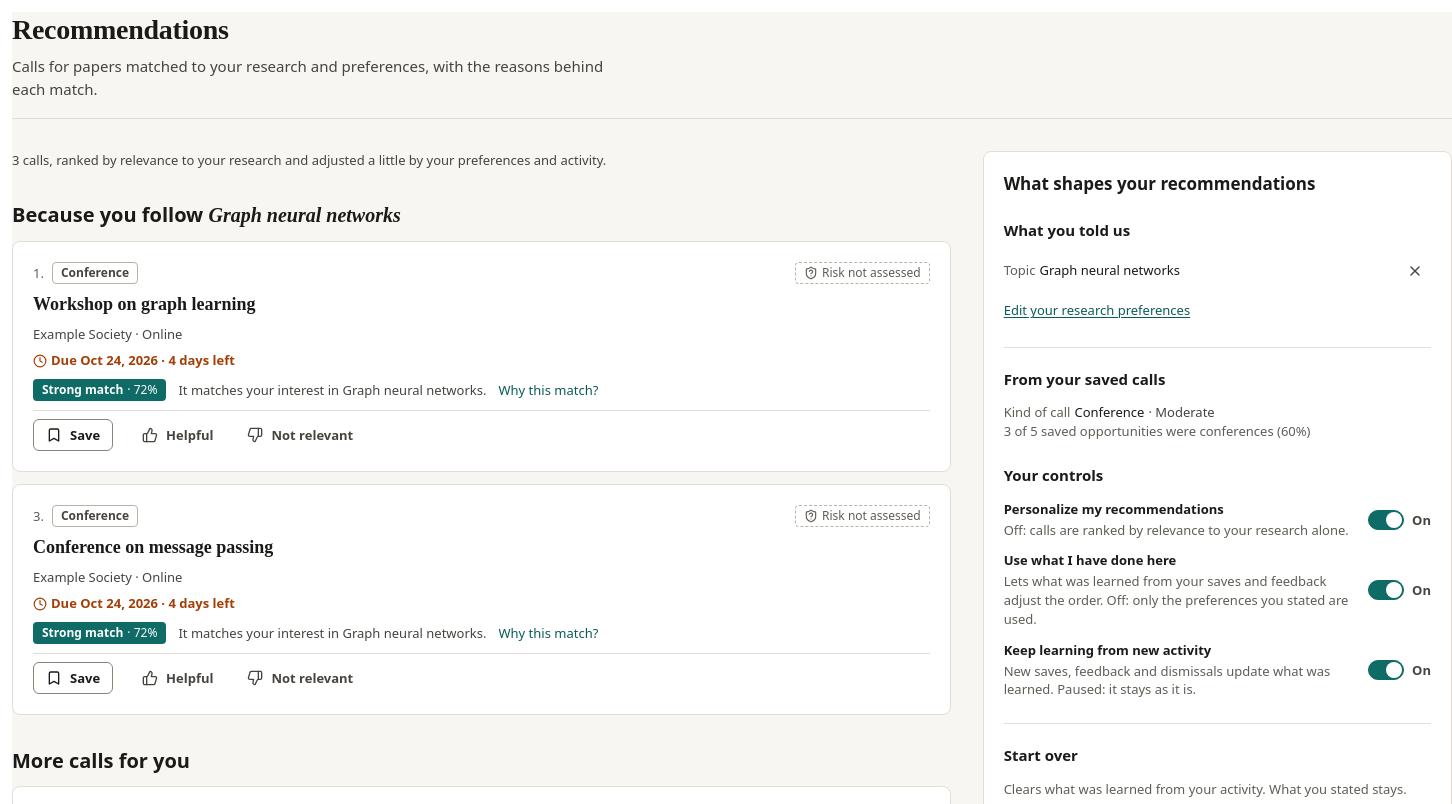
Scenario: recommendations page › pauses personalization with a switch
Click the switch named "Personalize my recommendations" at (1400, 520), box [1368,508,1431,532]
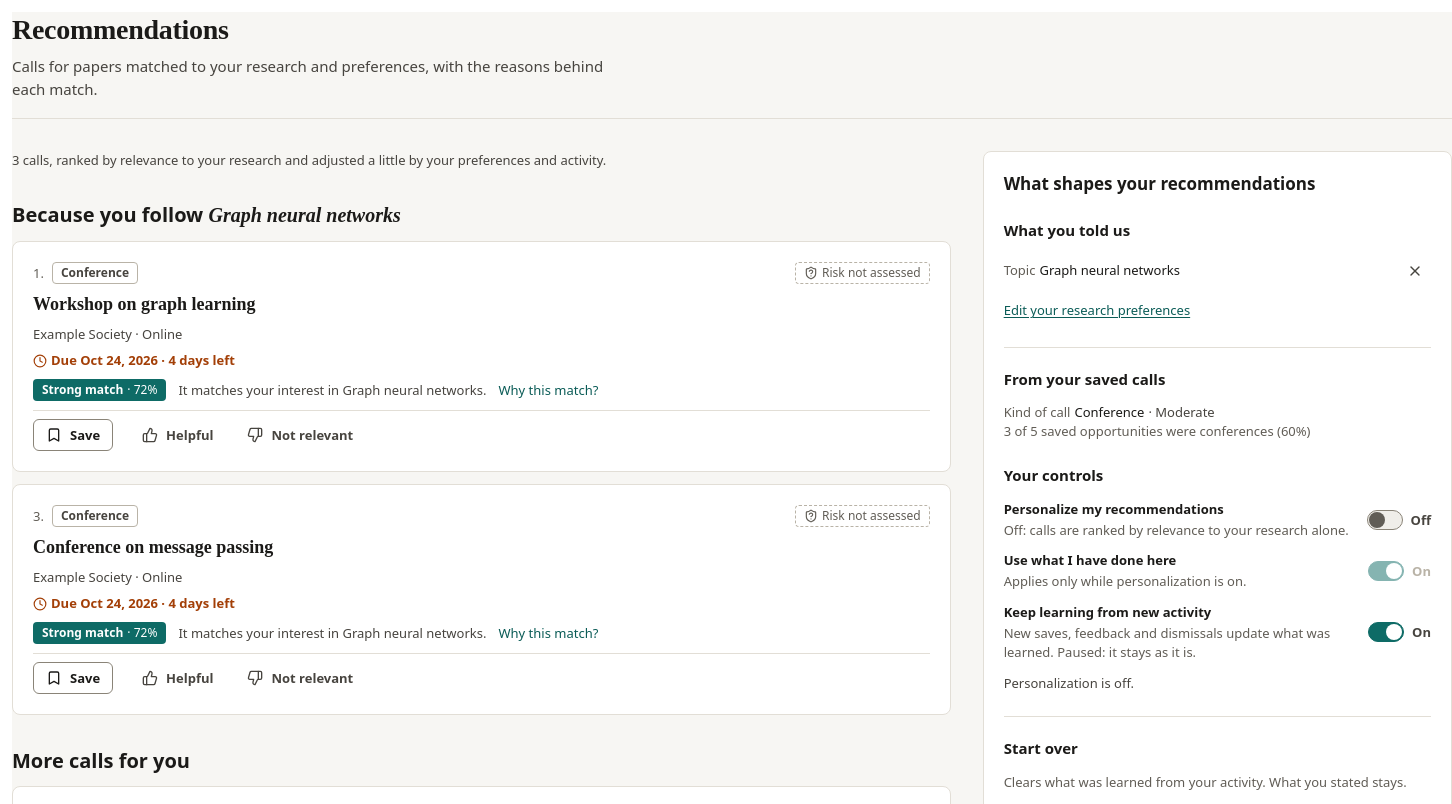
Now the switch named "Use what I have done here" is disabled, box [1368,559,1431,583]
Now the text "Personalization is off." is shown, box [1004,674,1134,692]
